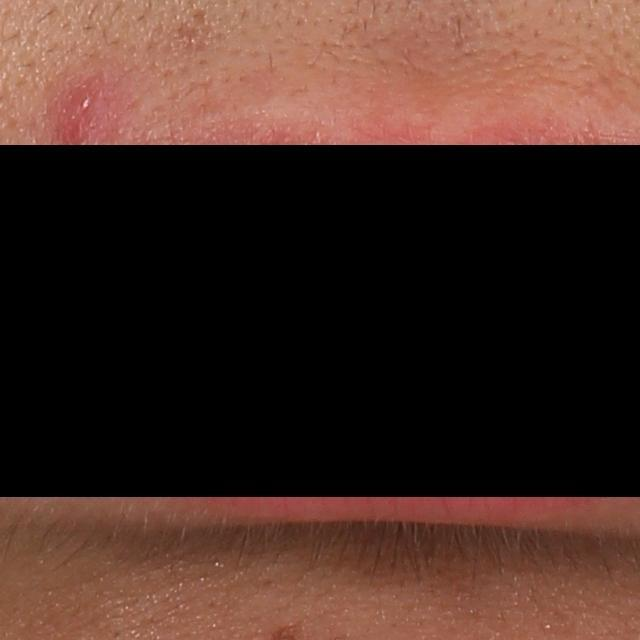papule: (50, 73, 116, 148)
